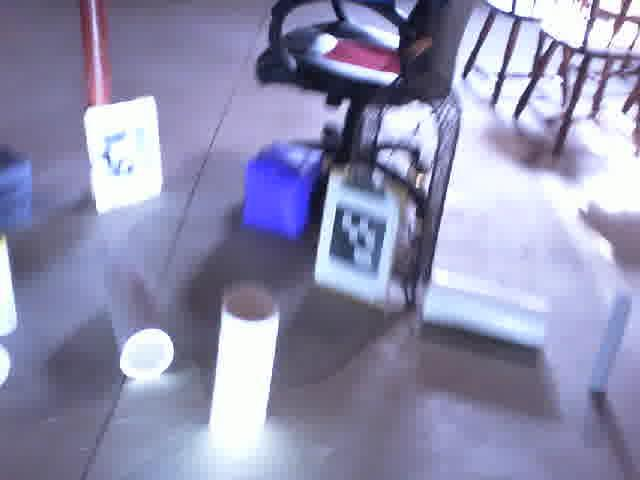coral: (207, 278, 284, 450), (418, 259, 553, 355), (90, 256, 180, 382)
